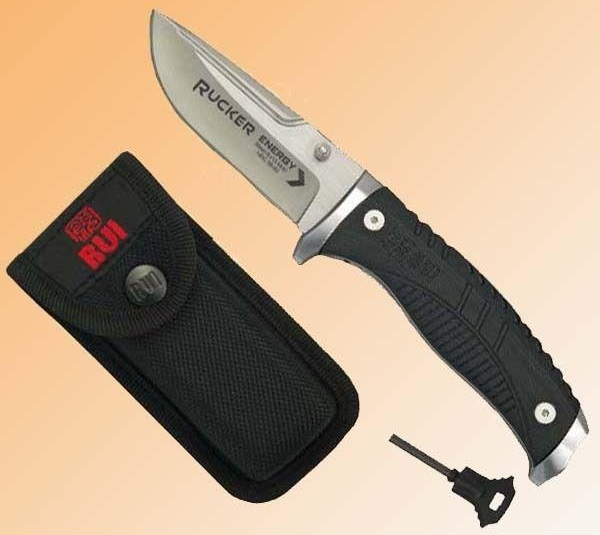knife: (139, 1, 418, 284)
